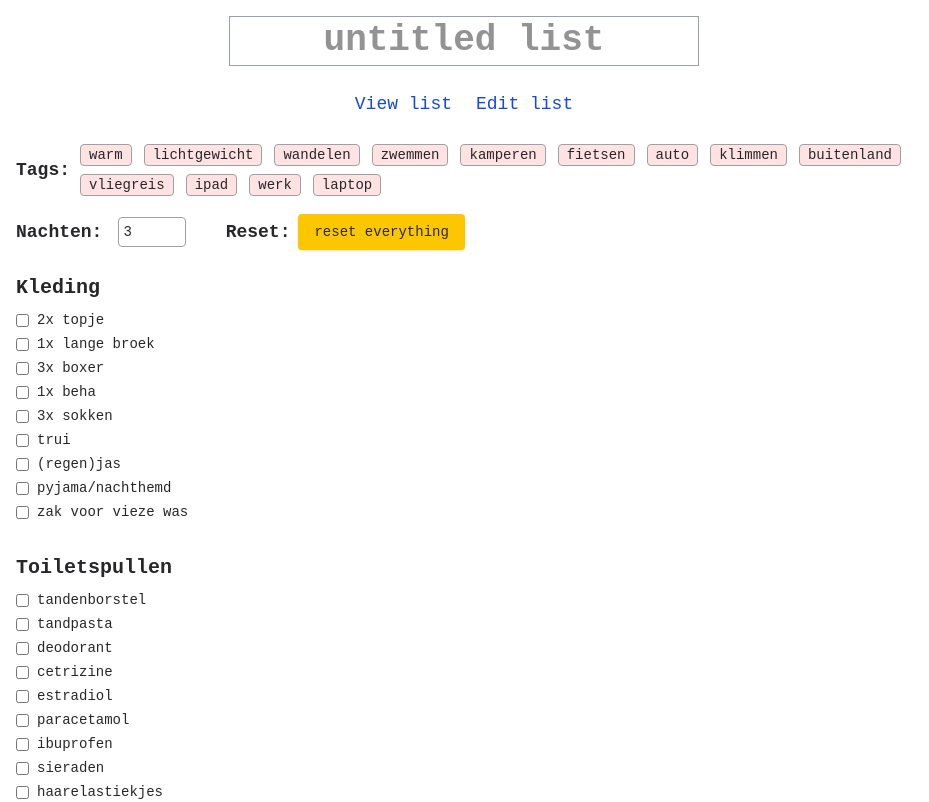
it: clicking a tag toggles it in the store and reveals its category
The width and height of the screenshot is (929, 802).
Expected: the text "Kampeerspullen" is not shown
What coordinates should you click on to do the following:
click the list item "kamperen"
I would click on:
 (503, 155)
Its box is [460,144,546,166].
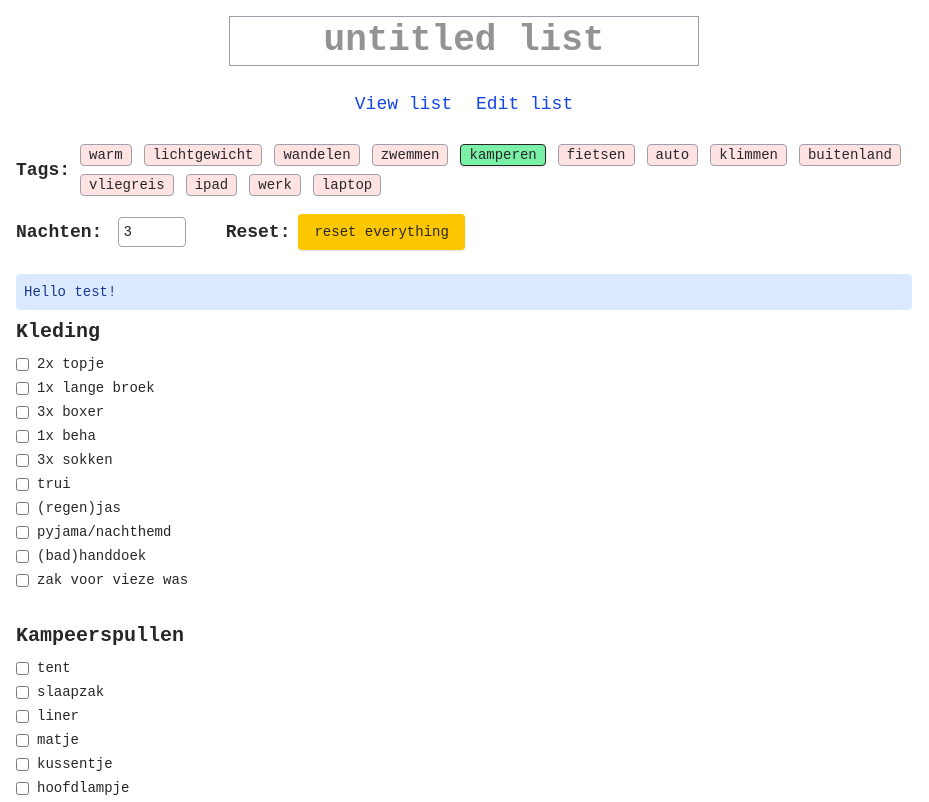
Expected: the text "Kampeerspullen" is shown, [16,622,184,650]
